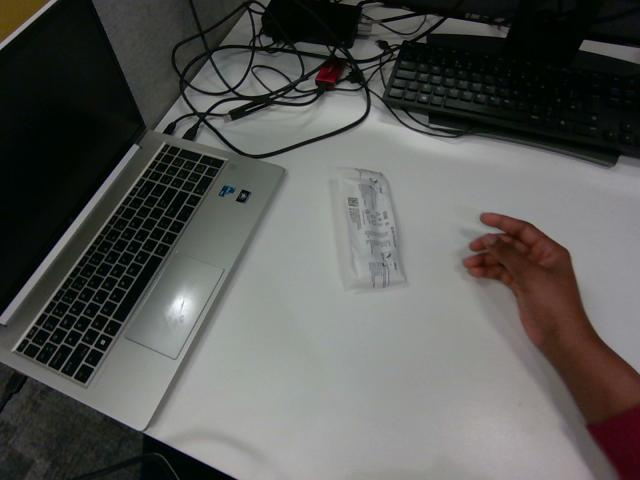syringe: (338, 168, 405, 288)
